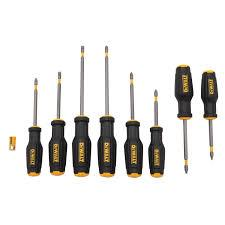screwdriver: (69, 43, 91, 177), (95, 44, 117, 177), (122, 69, 143, 178), (173, 64, 193, 173), (47, 69, 67, 177), (24, 76, 43, 176), (199, 68, 219, 160), (146, 87, 165, 178)
